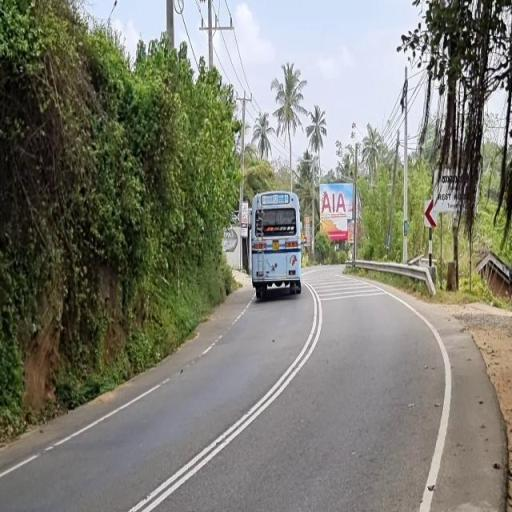double_white_line: (129, 282, 325, 510)
